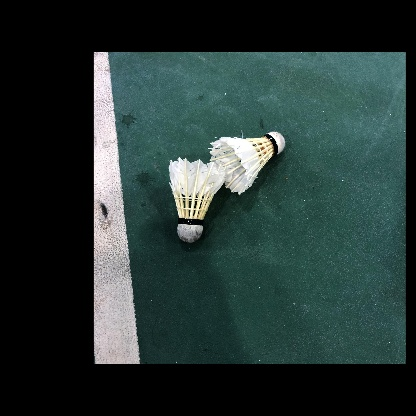ball_single: (169, 158, 225, 243), (210, 132, 285, 195)
